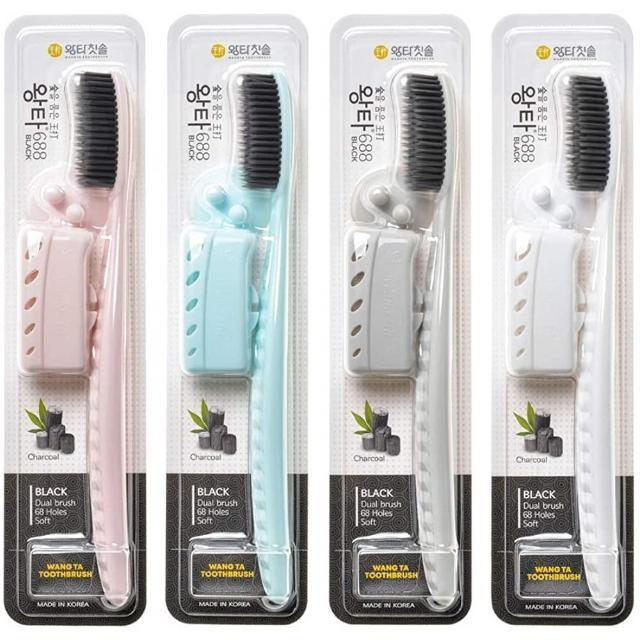toothbrush: (63, 59, 141, 609)
